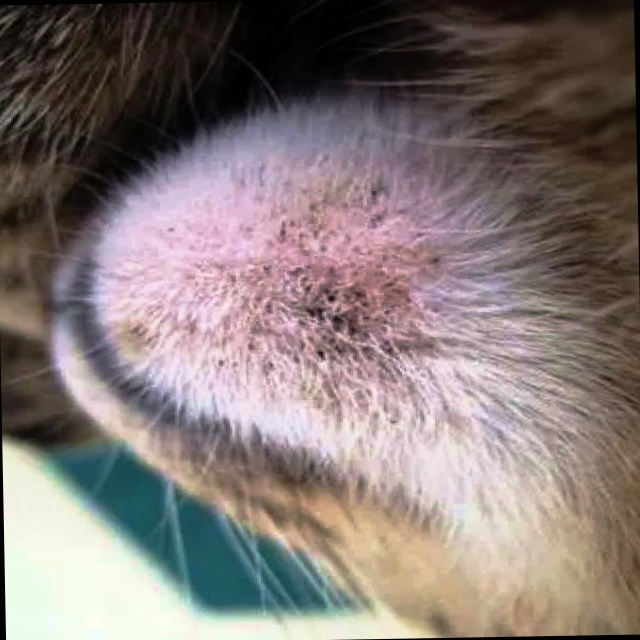acne: (207, 182, 461, 386)
